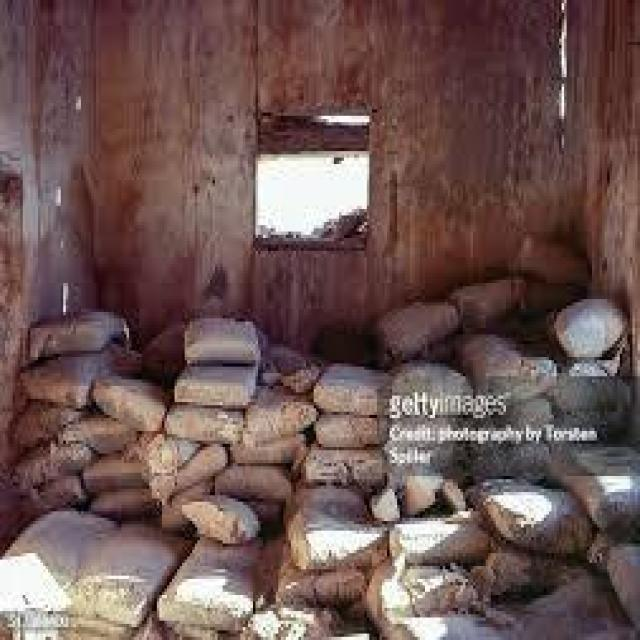gunny_bag: (76, 515, 189, 616), (4, 509, 116, 603), (463, 323, 557, 418), (558, 442, 640, 531), (24, 345, 138, 399), (390, 295, 465, 362), (562, 296, 631, 362), (502, 499, 583, 554), (41, 295, 129, 345), (168, 582, 250, 630), (19, 437, 81, 494), (286, 565, 359, 613), (462, 271, 530, 322), (186, 499, 254, 547), (310, 528, 385, 570), (176, 440, 230, 493), (405, 525, 489, 559), (257, 403, 309, 452), (312, 454, 382, 489), (399, 384, 465, 421), (221, 467, 293, 499), (83, 460, 150, 493), (170, 411, 236, 442), (188, 339, 258, 367), (181, 381, 248, 410), (320, 418, 383, 447), (324, 389, 374, 413)
